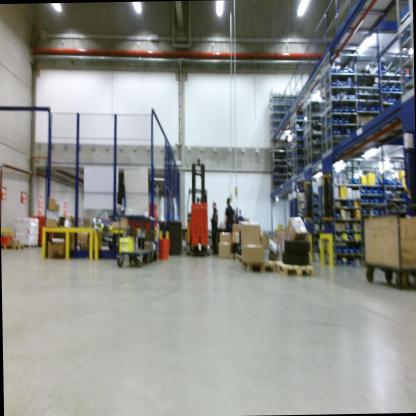forklift: (182, 156, 210, 259)
pallet: (240, 251, 276, 279), (277, 260, 318, 277), (233, 250, 246, 266), (12, 239, 25, 255), (1, 243, 15, 251)
small_load_carrier: (144, 199, 159, 220), (152, 245, 170, 261), (143, 212, 158, 230), (132, 213, 146, 230), (155, 235, 169, 249), (1, 232, 14, 246)
